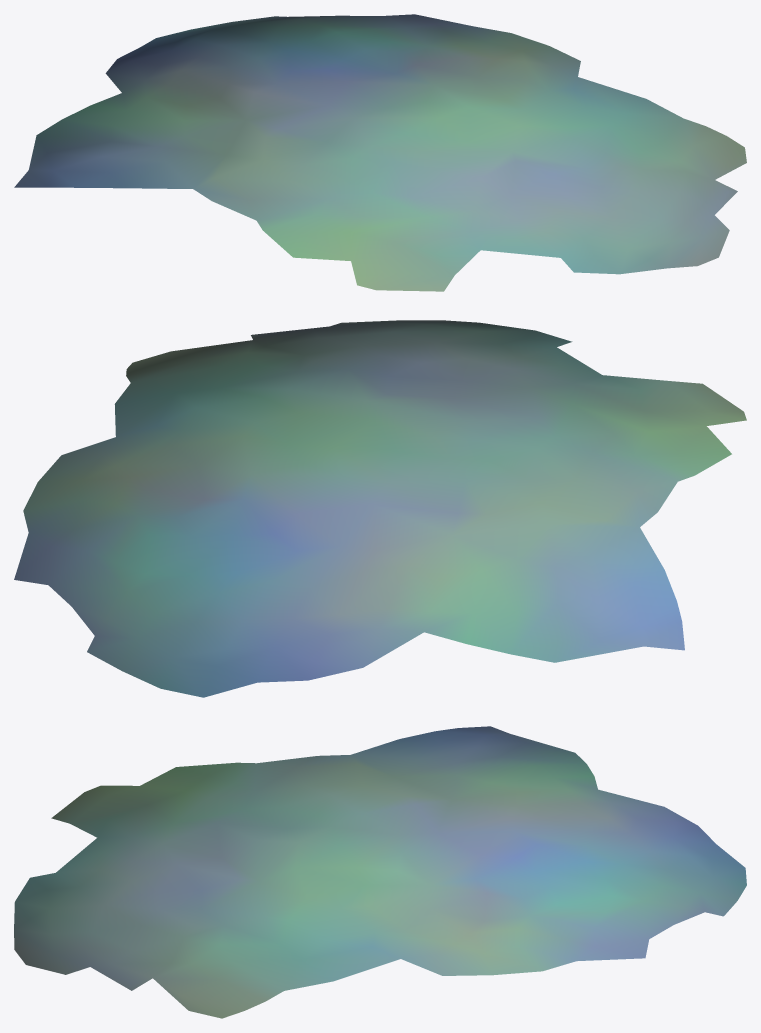
The model's file is space-nebulae-nebula_v44.glb.
The picture shows the model from 3 angles, top to bottom: view 1: azimuth 30°, elevation 25°; view 2: azimuth 150°, elevation 25°; view 3: azimuth 270°, elevation 25°; orthographic projection. The views are drawn at different scales.
Visible parts, largest first — view 1: Nebula_v44; view 2: Nebula_v44; view 3: Nebula_v44.
Part boxes in pixels (x1=…): Nebula_v44: x1=14, y1=14, x2=746, y2=291; Nebula_v44: x1=14, y1=320, x2=746, y2=697; Nebula_v44: x1=14, y1=726, x2=746, y2=1018.
Size of the model in its own units: 0.4631 by 0.0335 by 0.5.
